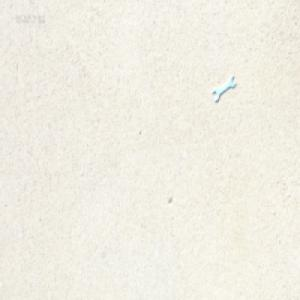Wrench: (211, 77, 235, 104)
